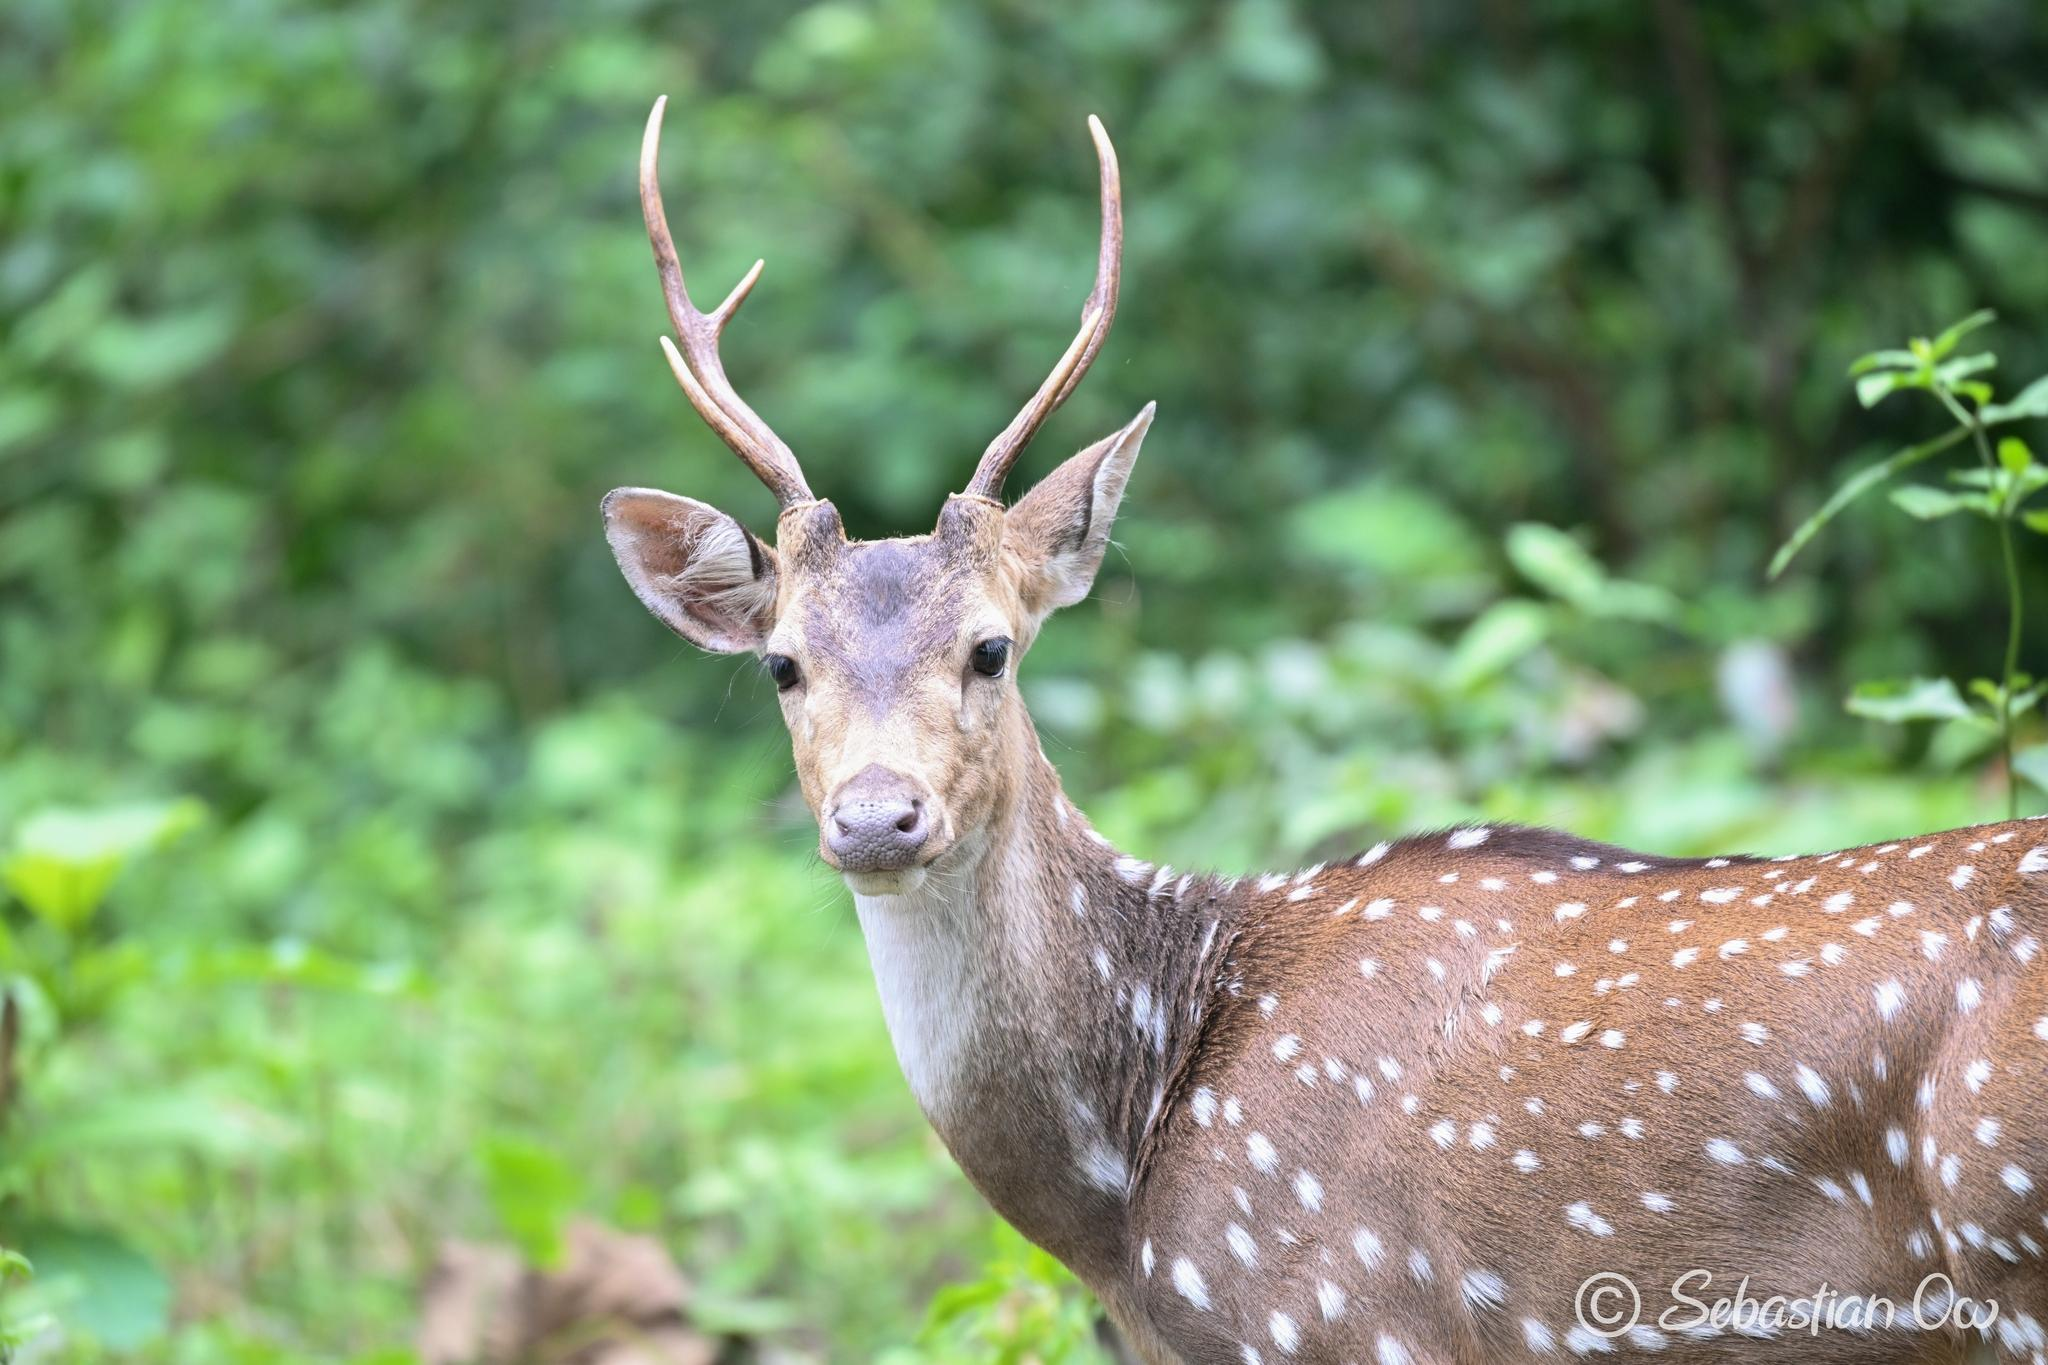Deer: (601, 97, 2046, 1360)
